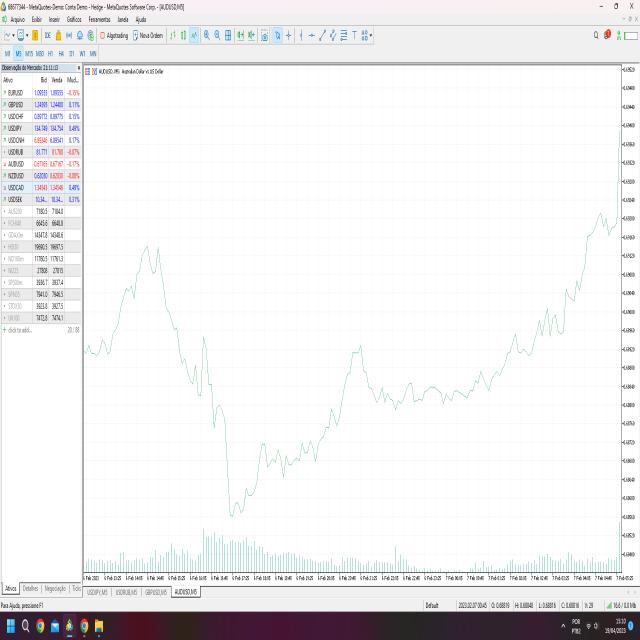topo_duplo: (114, 208, 178, 352)
